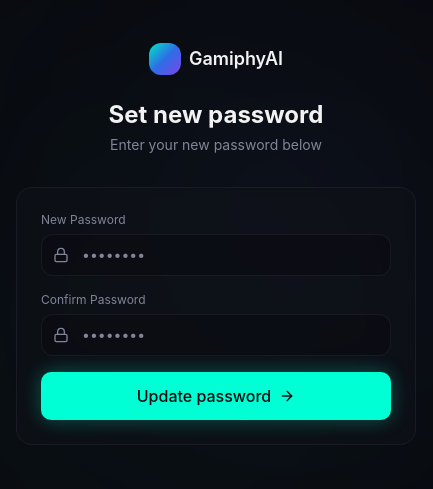
ResetPasswordPage › shows error when passwords do not match
In the 1st password field with placeholder "••••••••": (216, 255) [41,234,391,276], type "NewPassword123!"
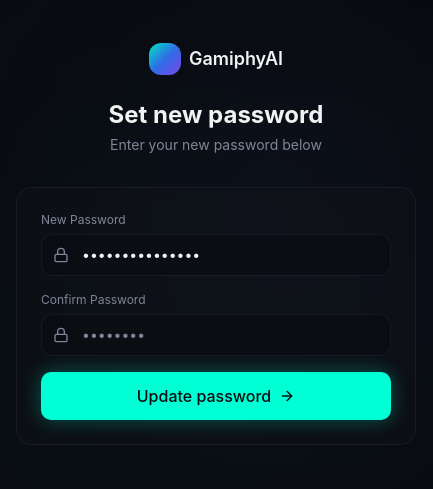
In the password field with placeholder "••••••••": (216, 335) [41,314,391,356], type "DifferentPass123!"
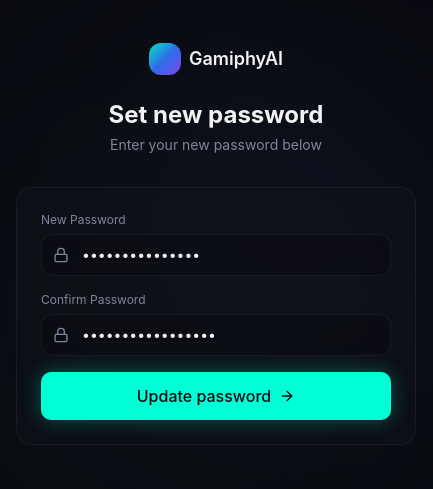
Click the button "Update password": (216, 396) [41,372,391,420]
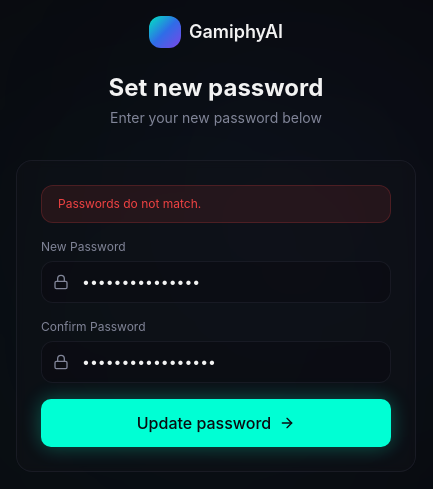
Expected: the text "Passwords do not match." is shown, [41,185,391,223]
